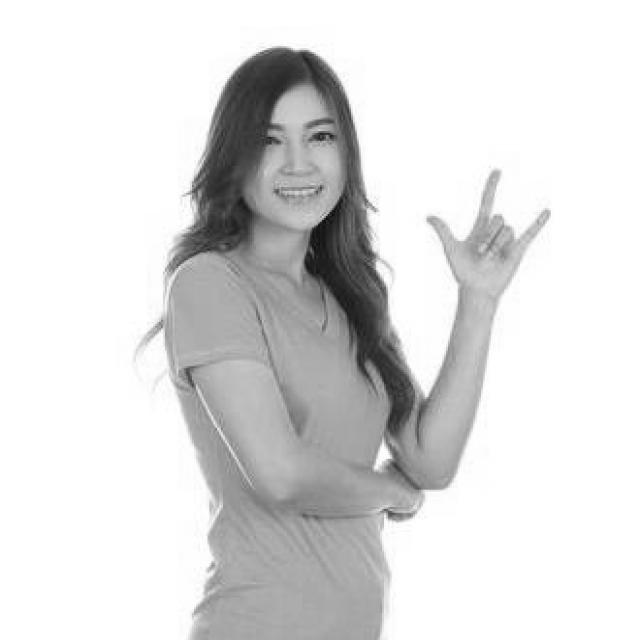i love you: (421, 162, 558, 312)
